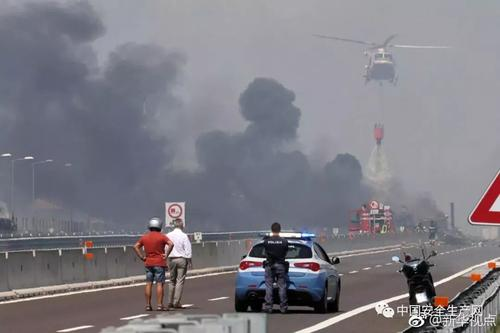smoke: (29, 61, 357, 230)
